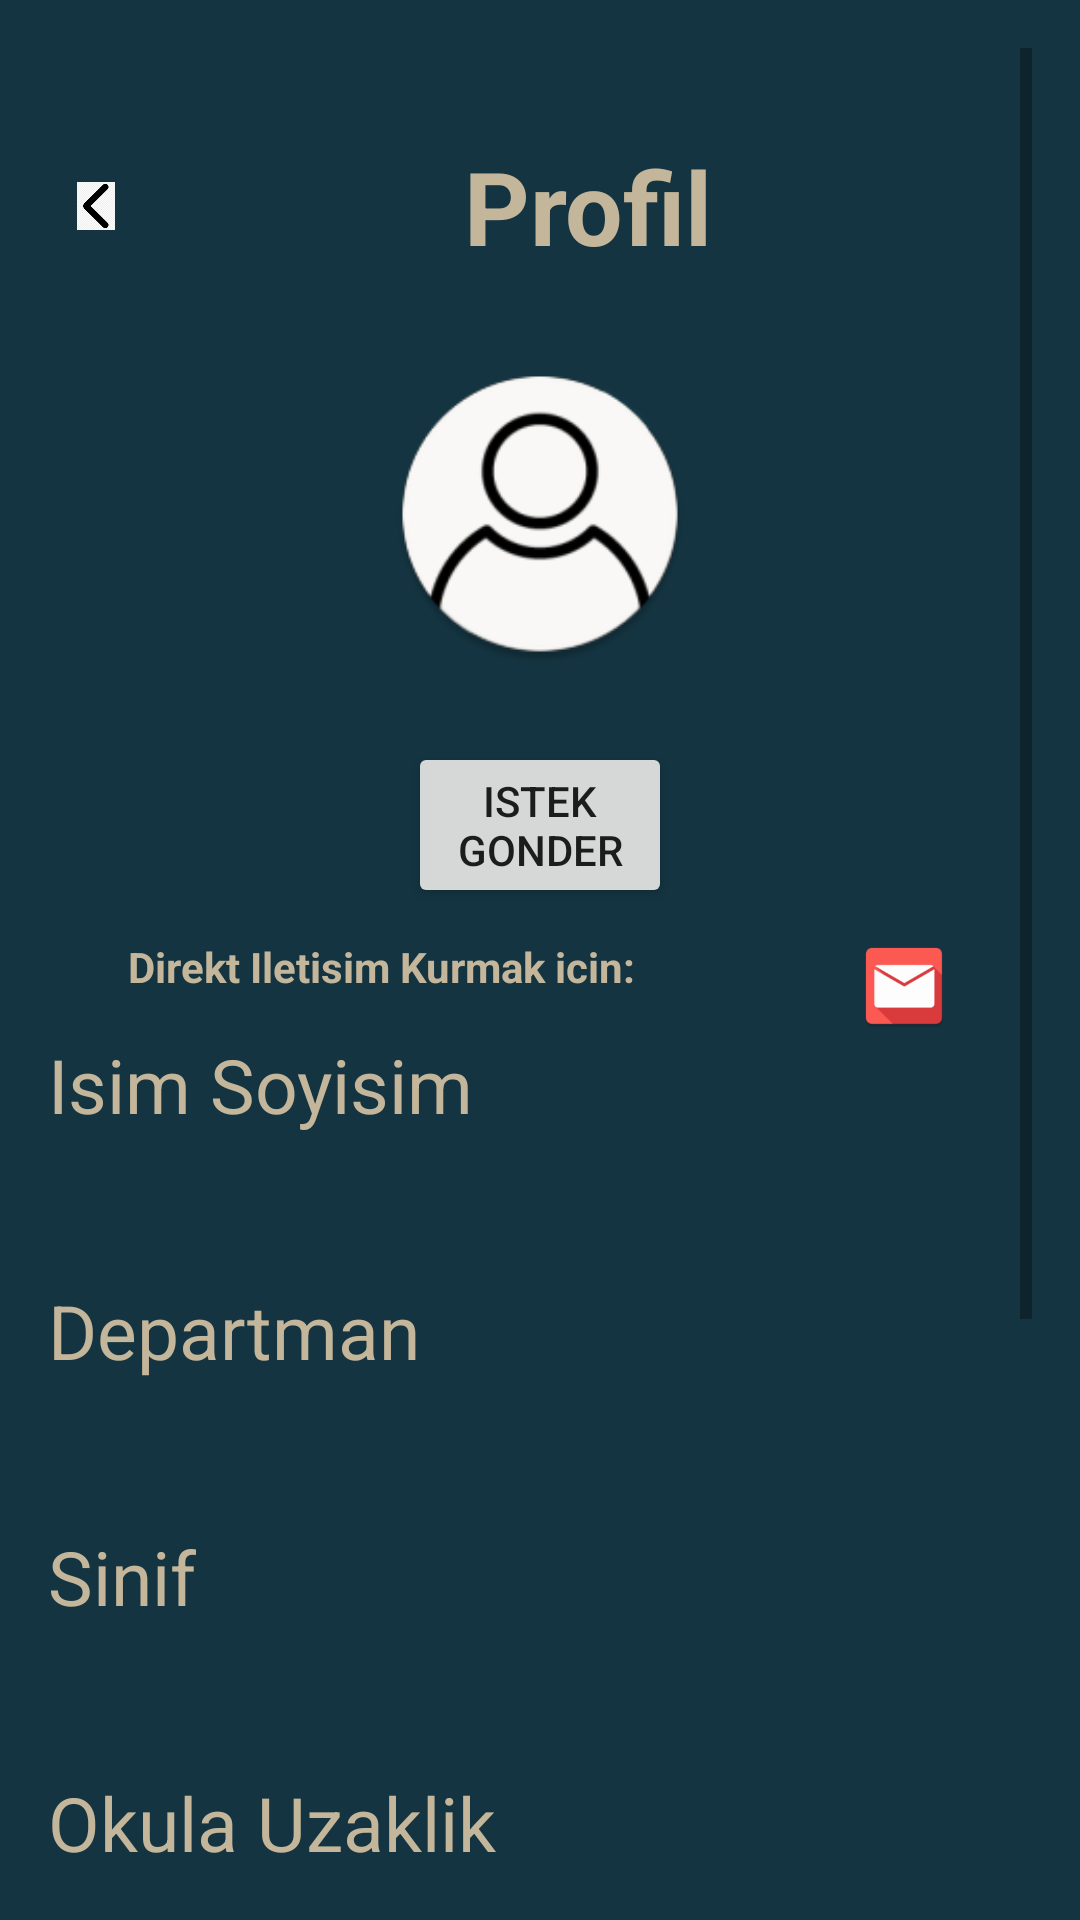

Icons on this 1080px x 1920px Android screen, each with its box as {"x1": x1, "y1": y1, "x2": x2, "y2": y2}:
back: {"x1": 77, "y1": 182, "x2": 115, "y2": 230}
mail: {"x1": 866, "y1": 948, "x2": 942, "y2": 1024}
